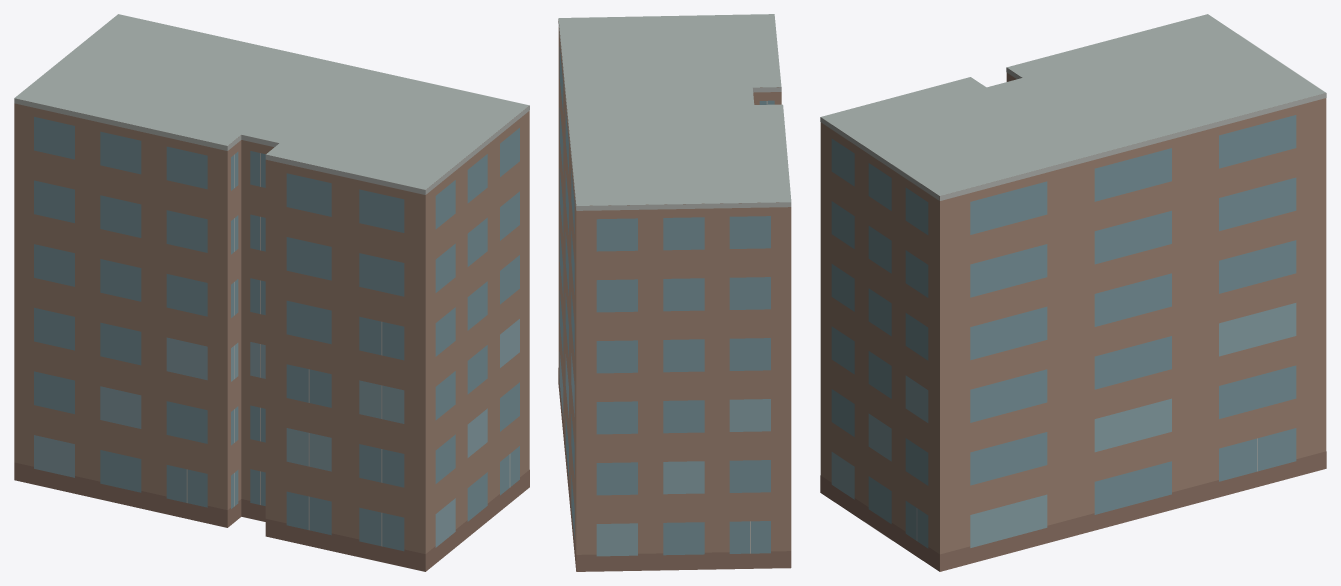
The model's file is survey-upis-32996478.glb.
3 views of the same model, side by side, from view 1: azimuth 30°, elevation 25°; view 2: azimuth 150°, elevation 25°; view 3: azimuth 270°, elevation 25° (orthographic). The views are drawn at different scales.
Parts seen in each view (by area): view 1: survey-upis-32996478.tmp; view 2: survey-upis-32996478.tmp; view 3: survey-upis-32996478.tmp.
Part boxes in pixels (x1,y1,x2,y2): survey-upis-32996478.tmp: (14,14,529,571); survey-upis-32996478.tmp: (558,14,791,571); survey-upis-32996478.tmp: (820,14,1326,571).
Bounding box in the file's own units: 18.92 × 18.2 × 22.22.
